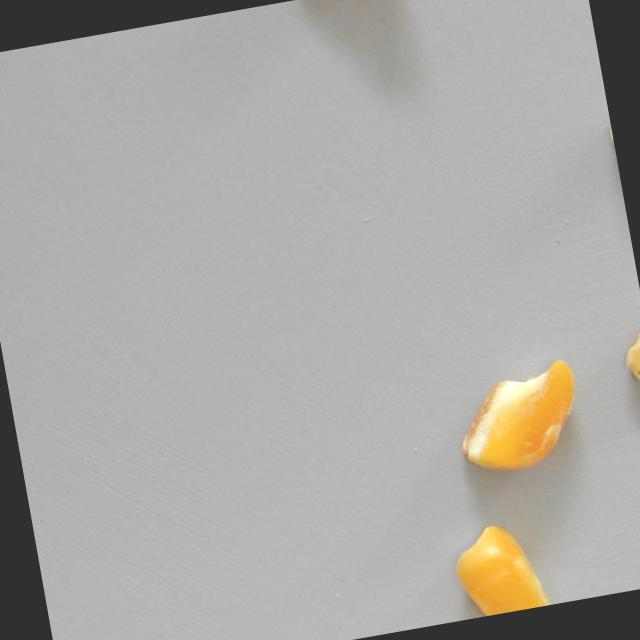pelicula: (449, 357, 593, 485), (442, 514, 558, 621), (611, 275, 640, 398)
